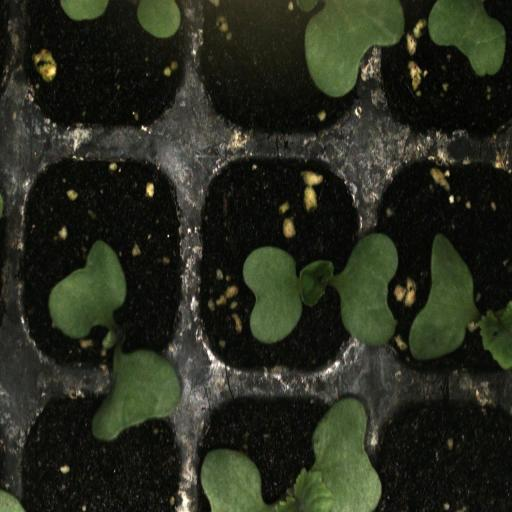Folha: (296, 0, 405, 98), (92, 350, 182, 442), (48, 240, 127, 339), (137, 0, 184, 39)
Germinacao: (11, 142, 192, 385), (191, 138, 368, 376), (372, 144, 512, 381), (188, 376, 368, 512)
